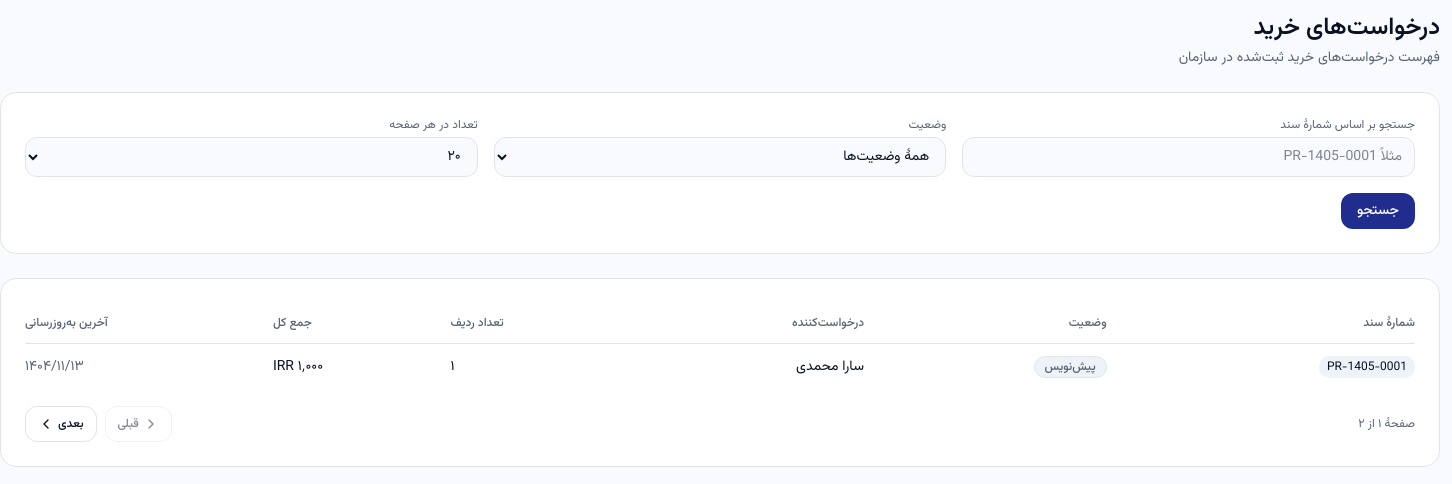
Scenario: CommercePurchaseListView › applies the server-side status filter and resets to page one
The width and height of the screenshot is (1452, 484).
Expected: the table is shown, x1=25 y1=303 x2=1415 y2=390
Select "در حال بررسی" in the dropdown labelled "وضعیت": (720, 157) x1=494 y1=137 x2=946 y2=177
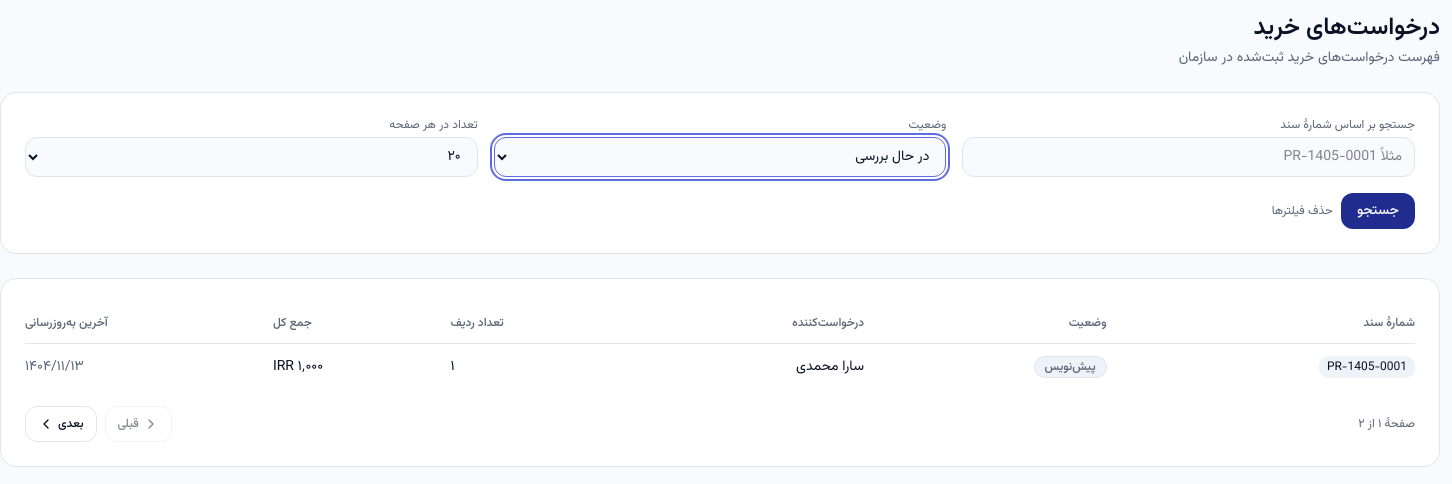
Result: the button with test id "commerce-clear-filters" is shown at x1=1272 y1=203 x2=1333 y2=219
